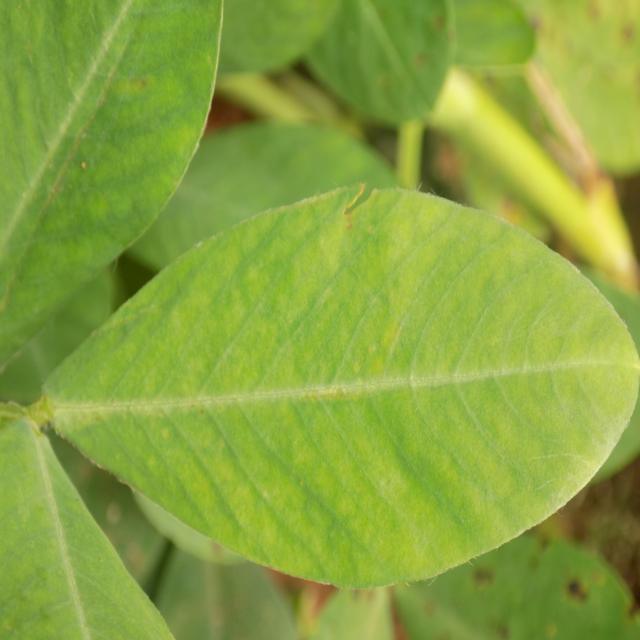Ground nut_healthy: (40, 187, 640, 592)
